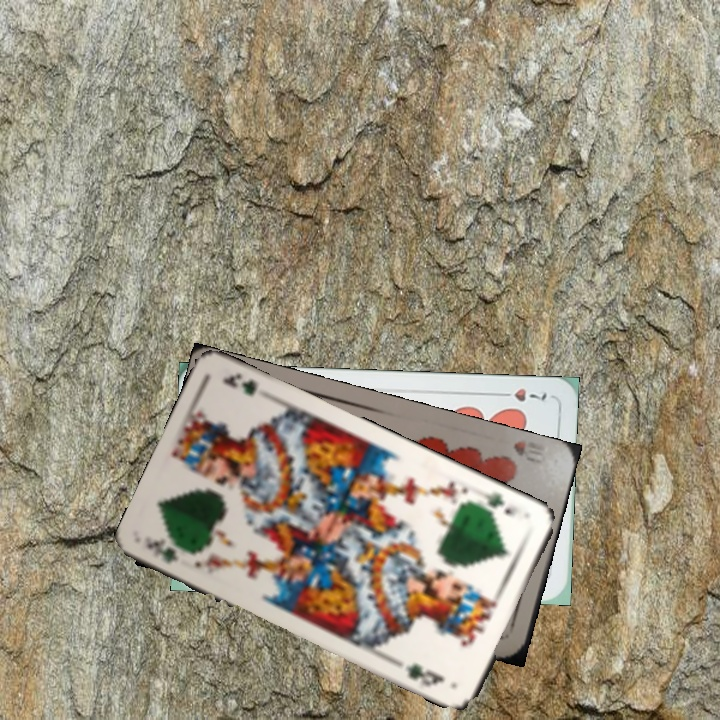GK: (476, 488, 522, 519), (143, 535, 182, 567)
H10: (509, 436, 549, 466)
H7: (493, 384, 549, 404)
